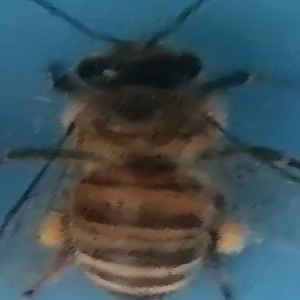bee: (3, 2, 270, 300)
